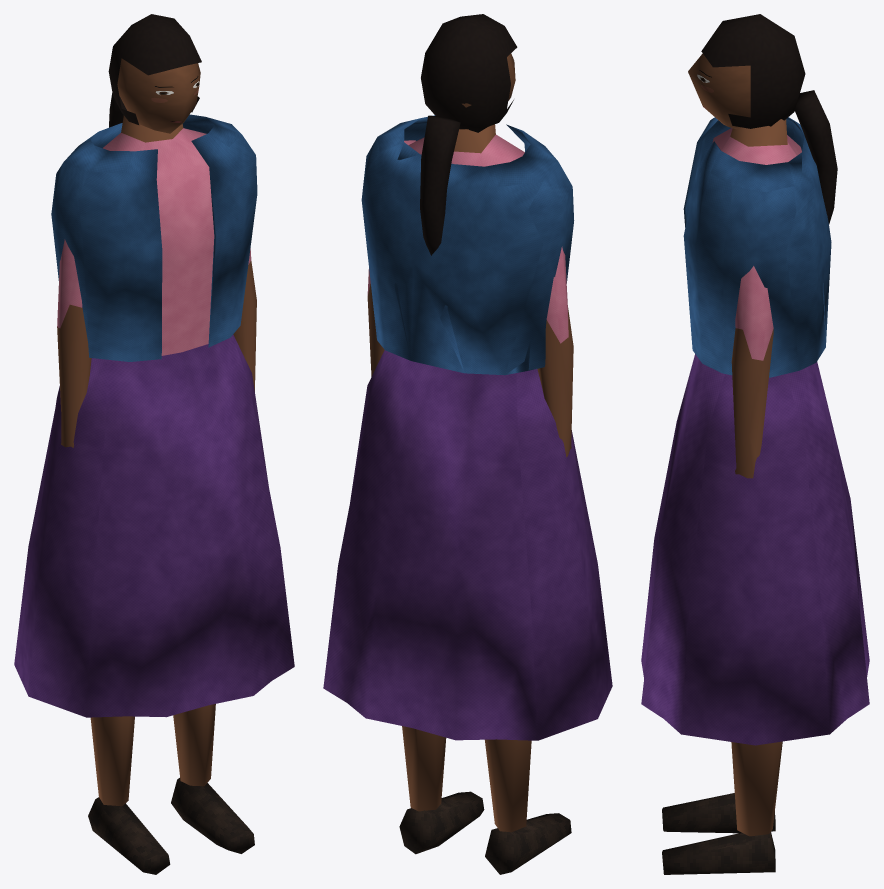
The model's file is persona_mujer_b_lod.obj.
3 views of the same model, side by side, from view 1: azimuth 30°, elevation 25°; view 2: azimuth 150°, elevation 25°; view 3: azimuth 270°, elevation 25° (orthographic). The views are drawn at different scales.
Visible parts, largest first — view 1: Falda, Rebozo, Torso, PiernaDer, PiernaIzq, BrazoDer, Pelo, Cabeza, BrazoIzq; view 2: Falda, Rebozo, Pelo, PiernaDer, PiernaIzq, BrazoDer, Torso, BrazoIzq; view 3: Falda, Rebozo, Pelo, PiernaIzq, BrazoIzq, Cabeza, Torso, PiernaDer.
Part boxes in pixels (<box>): Falda: <box>14,334,294,717</box>; Rebozo: <box>51,114,257,361</box>; Torso: <box>103,115,214,355</box>; PiernaDer: <box>88,716,170,874</box>; PiernaIzq: <box>171,704,254,853</box>; BrazoDer: <box>57,239,91,447</box>; Pelo: <box>108,14,201,127</box>; Cabeza: <box>117,58,200,133</box>; BrazoIzq: <box>233,248,256,391</box>; Falda: <box>323,350,612,740</box>; Rebozo: <box>361,115,574,375</box>; Pelo: <box>420,14,517,255</box>; PiernaDer: <box>485,739,571,874</box>; PiernaIzq: <box>399,726,484,854</box>; BrazoDer: <box>537,246,573,457</box>; Torso: <box>408,124,524,166</box>; BrazoIzq: <box>367,140,415,376</box>; Falda: <box>641,354,869,745</box>; Rebozo: <box>683,117,831,377</box>; Pelo: <box>701,14,837,224</box>; PiernaIzq: <box>662,741,782,874</box>; BrazoIzq: <box>731,266,773,478</box>; Cabeza: <box>688,53,750,129</box>; Torso: <box>712,119,801,164</box>; PiernaDer: <box>662,793,775,833</box>.
Size of the model in its own units: 0.5257 by 1.63 by 0.4019.
Materials: 7 (7 with a texture image).
